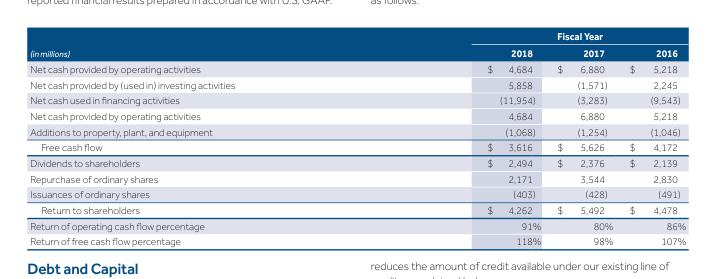table: (29, 29, 685, 247)
table column: (29, 29, 360, 247), (360, 29, 548, 247), (548, 29, 620, 247), (620, 29, 685, 247)
table column header: (29, 29, 685, 61)
table row: (29, 44, 685, 61), (29, 61, 685, 78), (29, 93, 685, 109), (29, 109, 685, 125), (29, 140, 685, 156), (29, 156, 685, 172), (29, 187, 685, 203), (29, 203, 685, 219), (29, 29, 685, 44), (29, 78, 685, 93), (29, 125, 685, 140), (29, 172, 685, 187), (29, 219, 685, 234), (29, 234, 685, 247)
table spanning cell: (29, 29, 360, 61), (360, 29, 685, 44)
